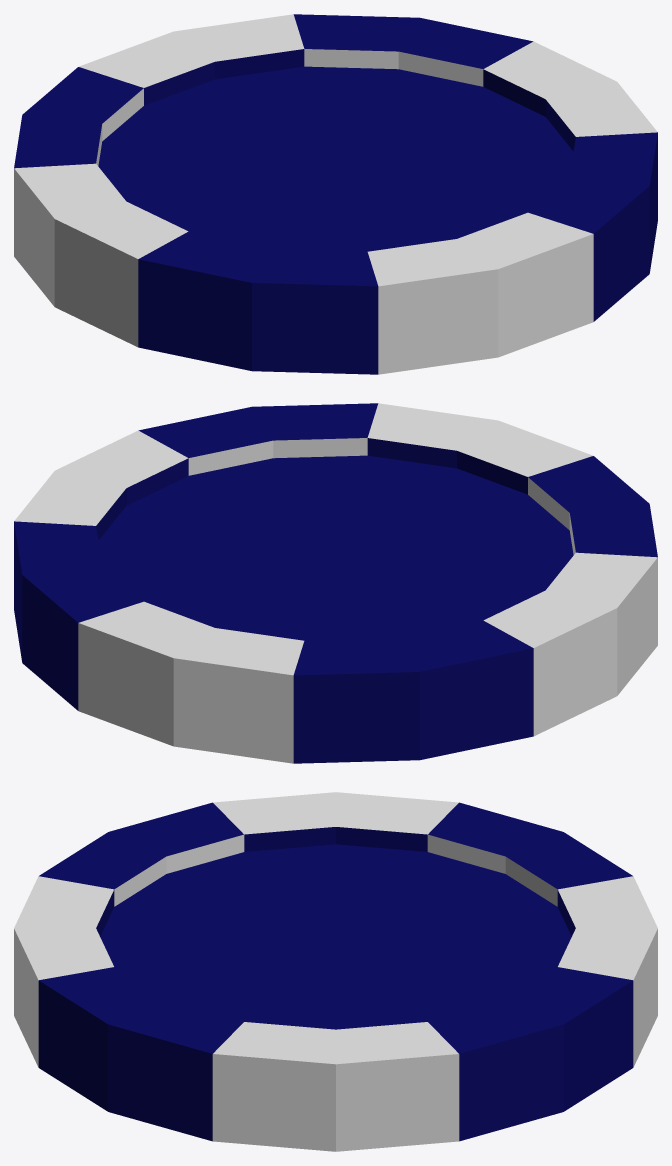
Rendered from pokerChipAlt2.fbx.
3 views of the same model, one above another, from view 1: azimuth 30°, elevation 25°; view 2: azimuth 150°, elevation 25°; view 3: azimuth 270°, elevation 25° (orthographic).
Visible parts, largest first — view 1: Cylinder; view 2: Cylinder; view 3: Cylinder.
Part boxes in pixels (<box>): Cylinder: <box>14,14,657,374</box>; Cylinder: <box>14,403,657,763</box>; Cylinder: <box>14,792,657,1151</box>.
Bounding box in the file's own units: 200 × 30 × 200.
